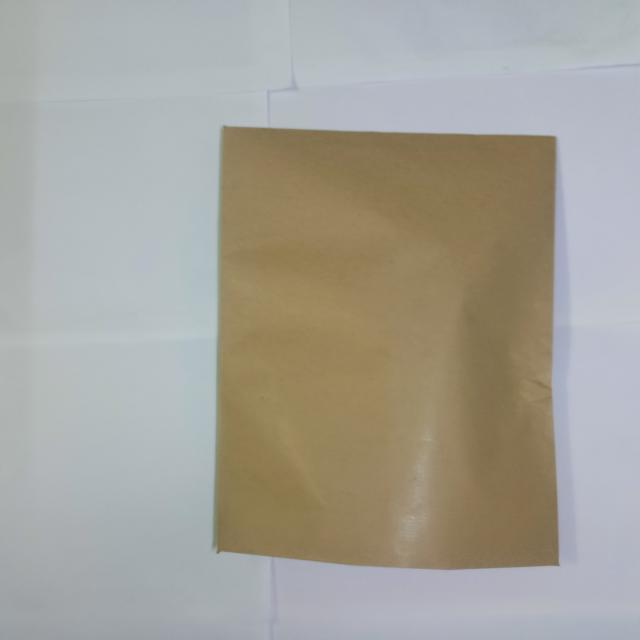box: (222, 126, 560, 568)
